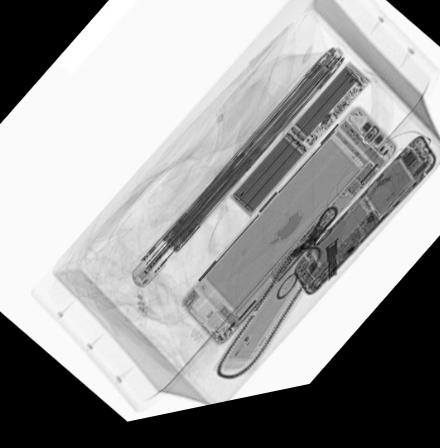Powerbank: (227, 76, 372, 229)
